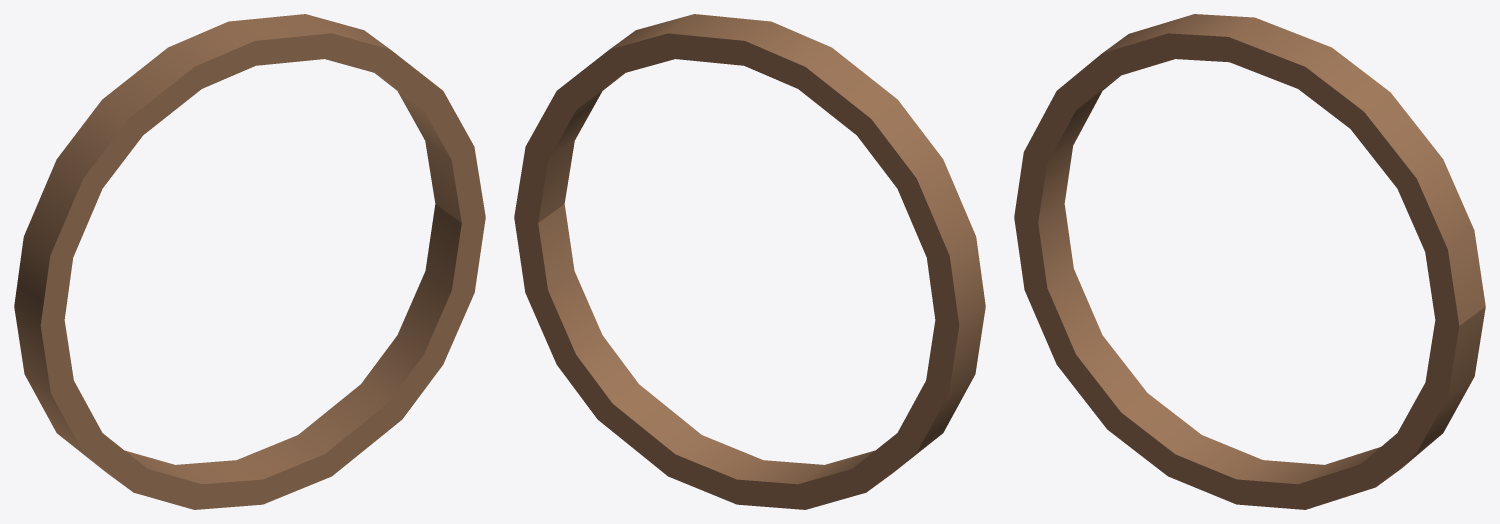
The model's file is Metal_Beam_01_Bend_05.fbx.
3 views of the same model, side by side, from view 1: azimuth 30°, elevation 25°; view 2: azimuth 150°, elevation 25°; view 3: azimuth 330°, elevation 25° (orthographic).
Visible parts, largest first — view 1: Metal_Beam_01_Bend_05; view 2: Metal_Beam_01_Bend_05; view 3: Metal_Beam_01_Bend_05.
Part boxes in pixels (left/top/right/bottom): Metal_Beam_01_Bend_05: left=14, top=14, right=485, bottom=509; Metal_Beam_01_Bend_05: left=514, top=14, right=985, bottom=509; Metal_Beam_01_Bend_05: left=1014, top=14, right=1485, bottom=509.
Size of the model in its own units: 163 by 163 by 16.8.
